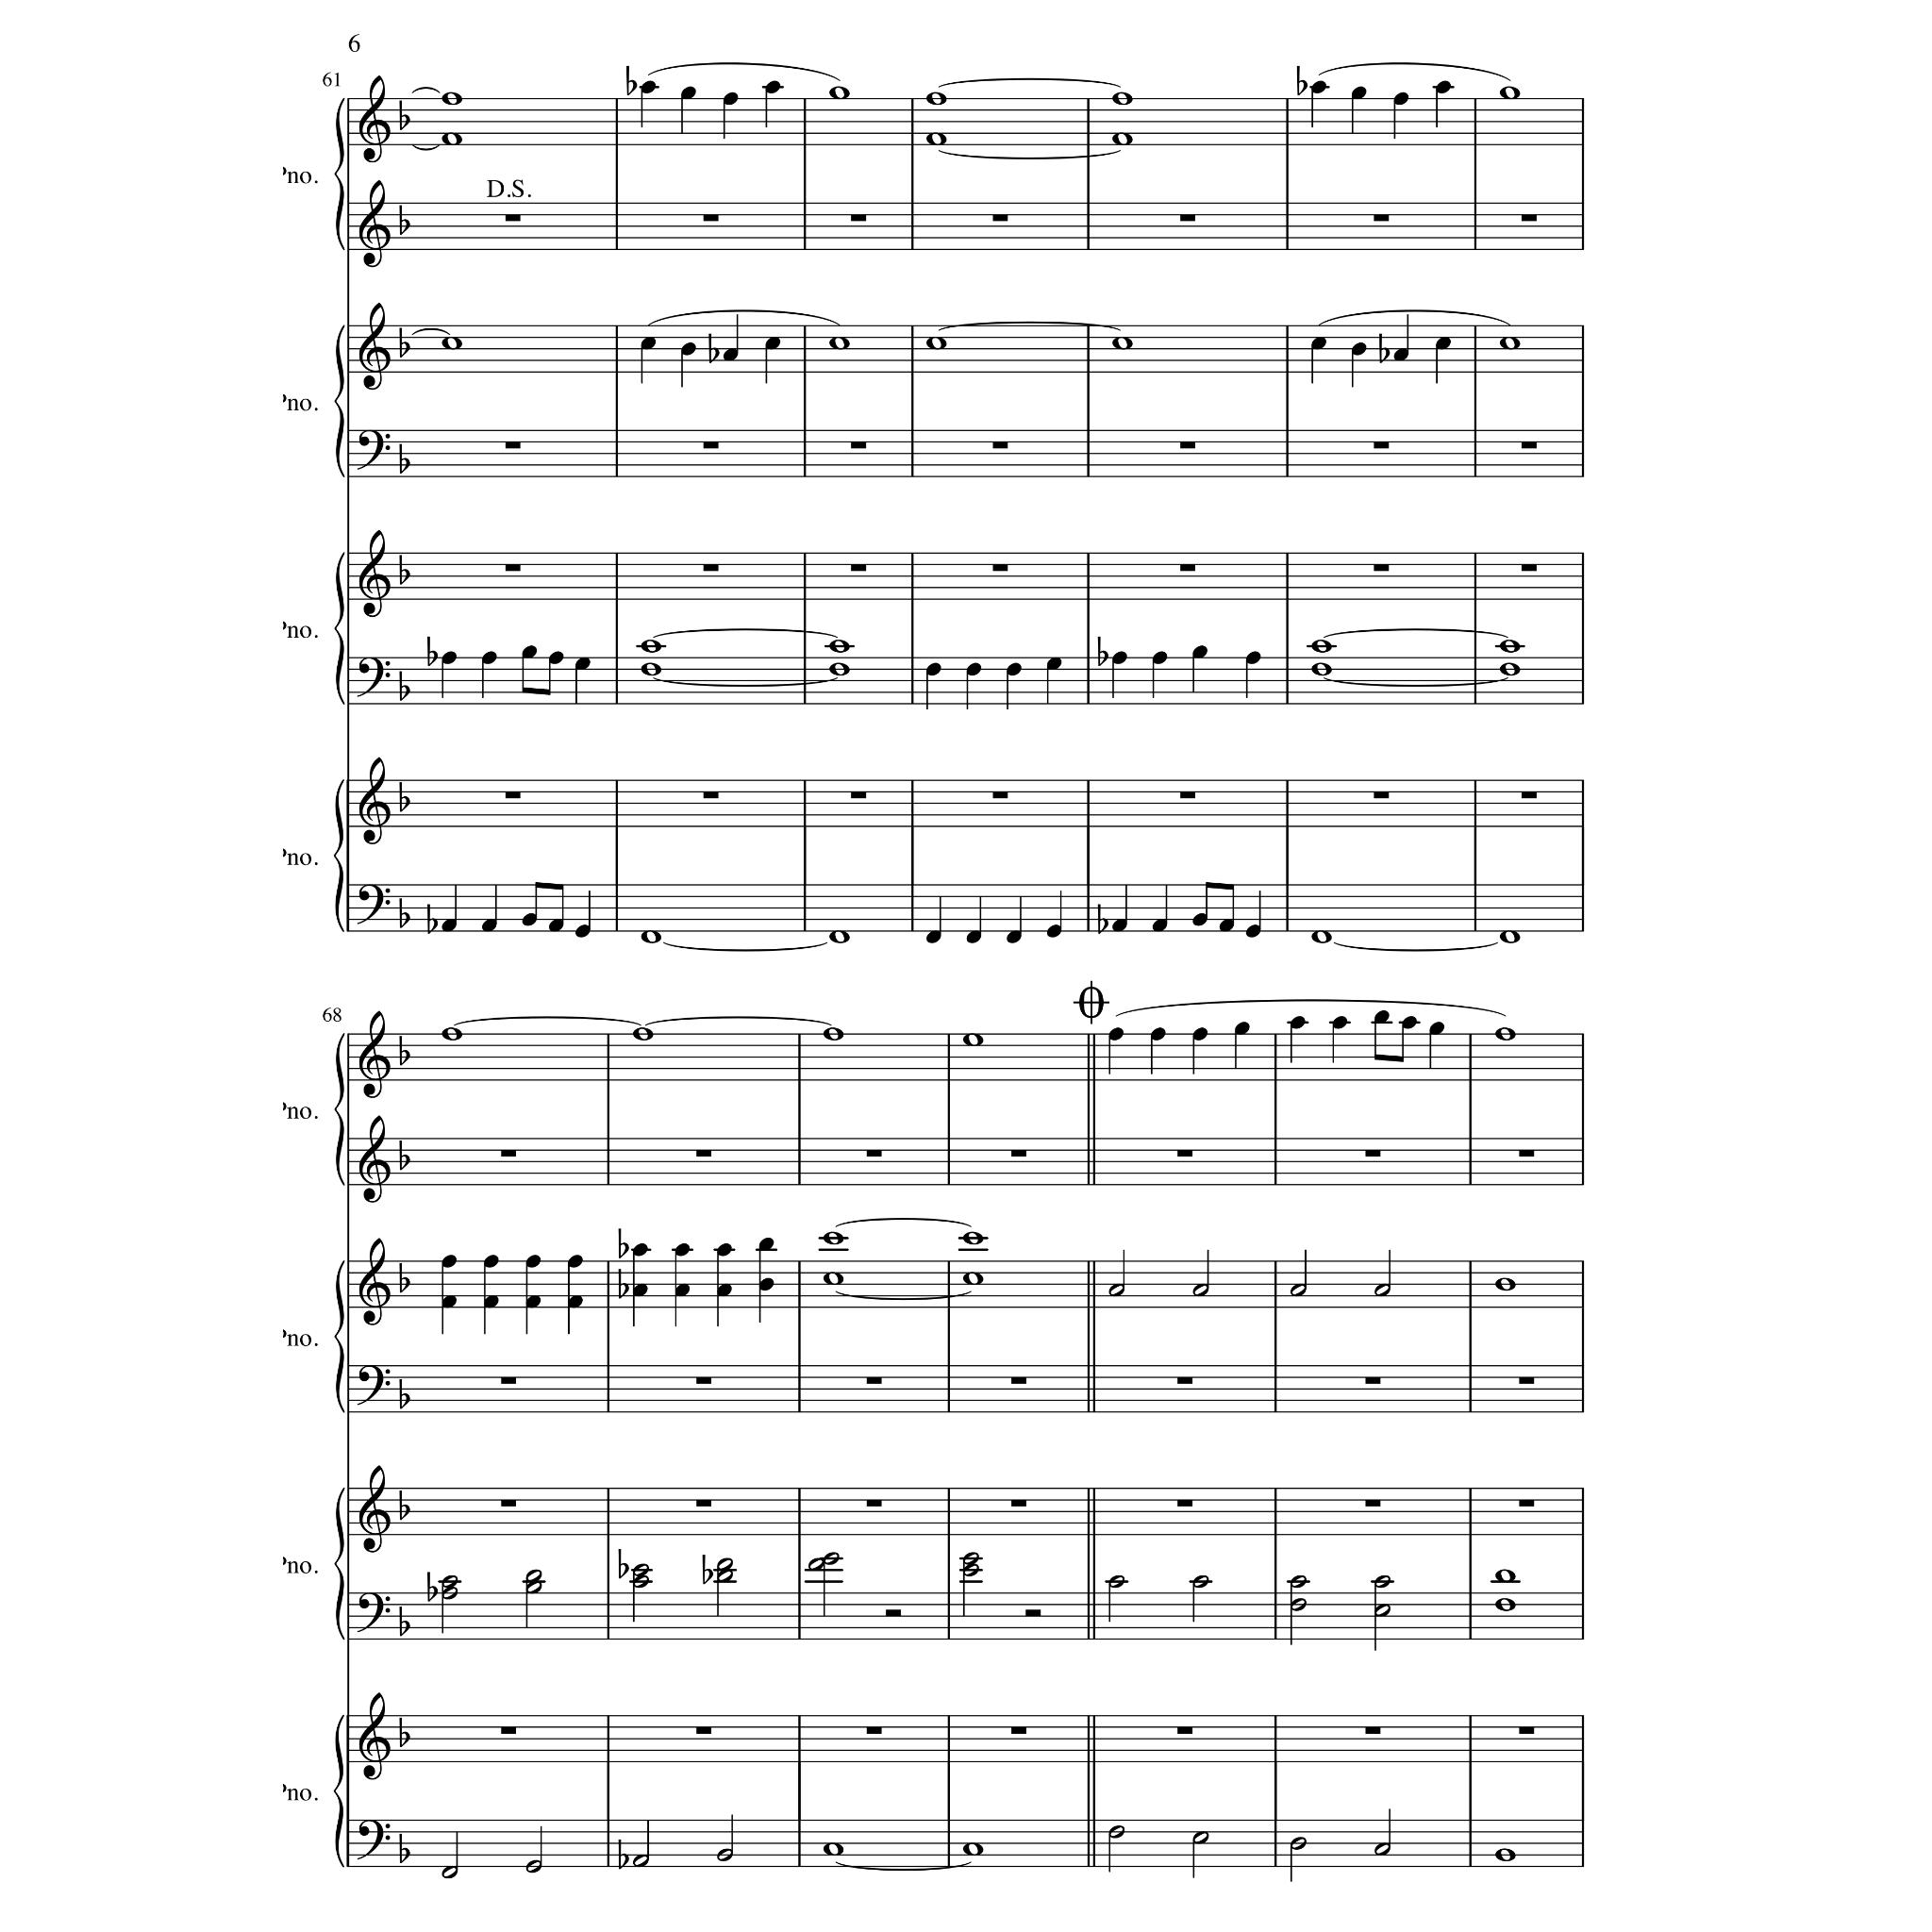brace: (333, 97, 345, 251), (333, 326, 345, 479), (333, 552, 345, 706), (333, 780, 345, 934), (333, 1714, 345, 1868), (333, 1033, 345, 1187), (333, 1260, 345, 1414), (333, 1488, 345, 1642)
fClef: (357, 885, 391, 925), (357, 430, 391, 471), (357, 656, 391, 697), (357, 1819, 391, 1859), (357, 1366, 391, 1407), (357, 1592, 391, 1633)
gClef: (359, 76, 391, 165), (359, 757, 391, 846), (359, 180, 391, 269), (359, 303, 391, 391), (359, 529, 391, 617), (359, 1010, 391, 1099), (359, 1115, 391, 1203), (359, 1691, 391, 1780), (359, 1238, 391, 1327), (359, 1465, 391, 1553)
noteheadBlack: (1246, 651, 1261, 665), (1311, 336, 1327, 350), (1311, 81, 1327, 96), (1111, 651, 1127, 665), (1111, 918, 1127, 932), (1192, 646, 1208, 660), (1192, 913, 1208, 927), (1152, 918, 1168, 932), (1219, 918, 1235, 932), (1152, 651, 1168, 665), (1392, 92, 1408, 106), (1392, 347, 1408, 361), (1435, 81, 1451, 96), (1435, 336, 1451, 350), (1350, 87, 1366, 101), (522, 646, 538, 660), (522, 913, 538, 927), (481, 651, 497, 665), (481, 918, 497, 932), (640, 81, 656, 96), (640, 336, 656, 350), (441, 651, 456, 665), (441, 918, 456, 932), (925, 931, 941, 945), (966, 931, 982, 945), (1007, 931, 1023, 945), (764, 81, 780, 96), (764, 336, 780, 350), (681, 87, 697, 101), (722, 92, 738, 106), (722, 347, 738, 361), (1290, 1016, 1306, 1030), (1235, 1021, 1251, 1035), (1401, 1016, 1417, 1030), (1430, 1021, 1445, 1035), (1332, 1016, 1348, 1030), (1375, 1010, 1391, 1024), (525, 1295, 541, 1309), (525, 1254, 541, 1269), (566, 1295, 582, 1309), (566, 1254, 582, 1269), (483, 1295, 499, 1309), (483, 1254, 499, 1269), (632, 1283, 648, 1297), (441, 1295, 456, 1309), (441, 1254, 456, 1269), (717, 1283, 732, 1297), (674, 1283, 690, 1297), (757, 1277, 773, 1292), (573, 658, 591, 671), (573, 925, 591, 938), (548, 651, 563, 665), (548, 918, 563, 932), (1246, 925, 1261, 938), (1046, 925, 1062, 938), (1350, 343, 1366, 356), (1046, 658, 1062, 671), (925, 663, 941, 676), (966, 663, 982, 676), (1007, 663, 1023, 676), (681, 343, 697, 356), (1108, 1028, 1123, 1040), (1192, 1028, 1208, 1040), (1150, 1028, 1166, 1040), (632, 1244, 648, 1256), (717, 1244, 732, 1256), (674, 1244, 690, 1256), (757, 1238, 773, 1251)
noteheadHalf: (1108, 1575, 1125, 1589), (1192, 1575, 1210, 1589), (1373, 1603, 1391, 1617), (1373, 1575, 1391, 1589), (1373, 1842, 1391, 1856), (524, 1580, 541, 1594), (524, 1569, 541, 1583), (632, 1575, 649, 1589), (632, 1854, 649, 1868), (441, 1575, 458, 1589), (823, 1552, 840, 1566), (1290, 1836, 1306, 1851), (1290, 1575, 1306, 1589), (1290, 1598, 1306, 1612), (962, 1552, 978, 1566), (717, 1569, 732, 1583), (717, 1849, 732, 1863), (1108, 1284, 1125, 1297), (1108, 1826, 1125, 1838), (1192, 1831, 1210, 1844), (1192, 1284, 1210, 1297), (1373, 1284, 1391, 1297), (524, 1859, 541, 1872), (632, 1564, 649, 1576), (441, 1587, 458, 1599), (441, 1867, 458, 1879), (807, 1559, 824, 1571), (1290, 1284, 1306, 1297), (962, 1564, 978, 1576), (717, 1559, 732, 1571)
noteheadWhole: (1111, 92, 1134, 106), (1111, 133, 1134, 147), (1111, 336, 1134, 350), (441, 133, 464, 147), (441, 92, 464, 106), (441, 336, 464, 350), (925, 133, 948, 147), (925, 92, 948, 106), (925, 336, 948, 350), (441, 1028, 464, 1042), (1311, 929, 1332, 943), (1311, 663, 1332, 678), (1499, 87, 1520, 101), (1499, 336, 1520, 350), (1499, 663, 1520, 678), (1499, 929, 1520, 943), (640, 663, 662, 678), (640, 929, 662, 943), (828, 87, 849, 101), (828, 663, 849, 678), (828, 929, 849, 943), (828, 336, 849, 350), (1495, 1028, 1516, 1042), (1495, 1277, 1516, 1292), (1495, 1598, 1516, 1612), (1495, 1569, 1516, 1583), (1495, 1847, 1516, 1861), (632, 1028, 653, 1042), (962, 1231, 984, 1246), (962, 1033, 984, 1047), (962, 1270, 984, 1284), (962, 1842, 984, 1856), (823, 1270, 844, 1284), (823, 1231, 844, 1246), (823, 1842, 844, 1856), (823, 1028, 844, 1042), (1311, 640, 1332, 653), (1499, 640, 1520, 653), (640, 640, 662, 653), (828, 640, 849, 653)
restHalf: (885, 1610, 901, 1617), (1024, 1610, 1040, 1617)
restWhole: (1373, 791, 1389, 800), (851, 791, 867, 800), (702, 791, 718, 800), (1180, 791, 1196, 800), (993, 791, 1008, 800), (504, 791, 520, 800), (1522, 791, 1537, 800), (1364, 1727, 1380, 1736), (1364, 1376, 1380, 1385), (865, 1727, 881, 1736), (865, 1376, 881, 1385), (695, 1727, 711, 1736), (695, 1376, 711, 1385), (1177, 1727, 1192, 1736), (1177, 1376, 1192, 1385), (1010, 1727, 1026, 1736), (1010, 1376, 1026, 1385), (501, 1376, 517, 1385), (501, 1727, 517, 1736), (1518, 1376, 1534, 1385), (1518, 1727, 1534, 1736), (1373, 564, 1389, 571), (1373, 442, 1389, 449), (1373, 216, 1389, 223), (851, 564, 867, 571), (851, 442, 867, 449), (851, 216, 867, 223), (702, 564, 718, 571), (702, 442, 718, 449), (702, 216, 718, 223), (1180, 216, 1196, 223), (1180, 564, 1196, 571), (1180, 442, 1196, 449), (993, 564, 1008, 571), (993, 442, 1008, 449), (993, 216, 1008, 223), (504, 564, 520, 571), (504, 216, 520, 223), (504, 442, 520, 449), (1522, 216, 1537, 223), (1522, 442, 1537, 449), (1522, 564, 1537, 571), (1364, 1500, 1380, 1507), (865, 1150, 881, 1157), (865, 1500, 881, 1507), (695, 1500, 711, 1507), (695, 1150, 711, 1157), (1364, 1150, 1380, 1157), (1177, 1500, 1192, 1507), (1177, 1150, 1192, 1157), (1010, 1500, 1026, 1507), (1010, 1150, 1026, 1157), (1518, 1150, 1534, 1157), (501, 1150, 517, 1157), (501, 1500, 517, 1507), (1518, 1500, 1534, 1507)
